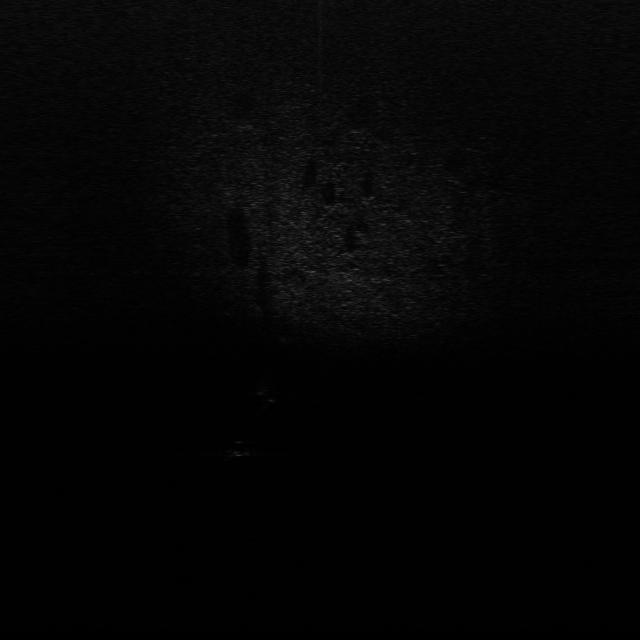ball: (227, 437, 252, 459)
human body: (257, 371, 281, 411)
